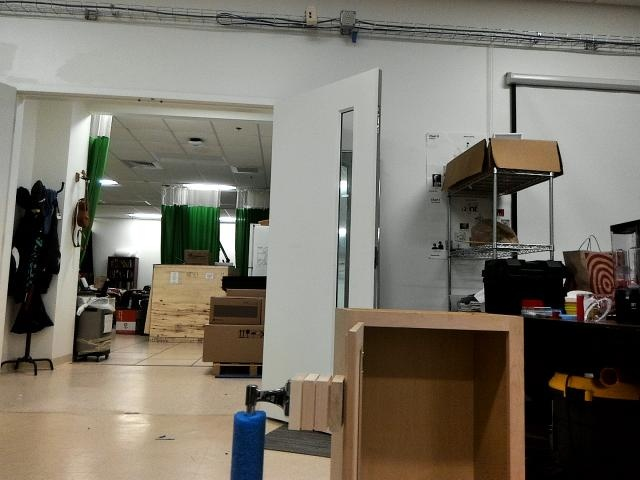noodle_handle: (224, 404, 275, 480)
